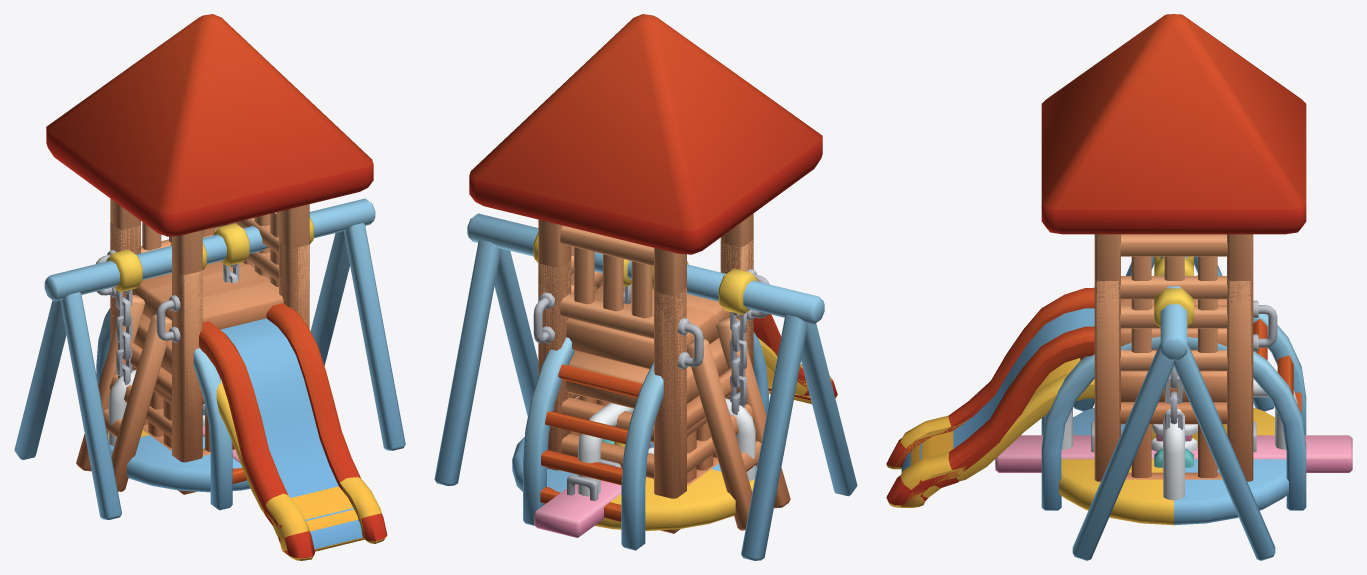
Rendered from juegos.glb.
3 views of the same model, side by side, from view 1: azimuth 30°, elevation 25°; view 2: azimuth 150°, elevation 25°; view 3: azimuth 270°, elevation 25° (orthographic). The views are drawn at different scales.
Parts seen in each view (by area): view 1: torre, columpios, tobogan, tiovivo, arco; view 2: torre, columpios, tobogan, arco, tiovivo, balancin; view 3: torre, tobogan, columpios, tiovivo, arco, balancin.
Boxes of the visible parts, bbox=[...] form: torre: bbox=[46, 14, 387, 558]; columpios: bbox=[14, 198, 405, 519]; tobogan: bbox=[96, 217, 387, 560]; tiovivo: bbox=[107, 369, 250, 492]; arco: bbox=[96, 308, 246, 510]; torre: bbox=[469, 14, 837, 530]; columpios: bbox=[434, 213, 857, 560]; tobogan: bbox=[533, 240, 837, 533]; arco: bbox=[523, 332, 768, 550]; tiovivo: bbox=[512, 398, 756, 530]; balancin: bbox=[534, 439, 621, 537]; torre: bbox=[886, 14, 1306, 505]; tobogan: bbox=[886, 276, 1277, 507]; columpios: bbox=[1072, 256, 1275, 560]; tiovivo: bbox=[1059, 379, 1297, 525]; arco: bbox=[1041, 314, 1306, 510]; balancin: bbox=[995, 421, 1352, 472].
Bounding box in the file's own units: 3.36 × 4.39 × 3.95.
1 material, 1 textured.
